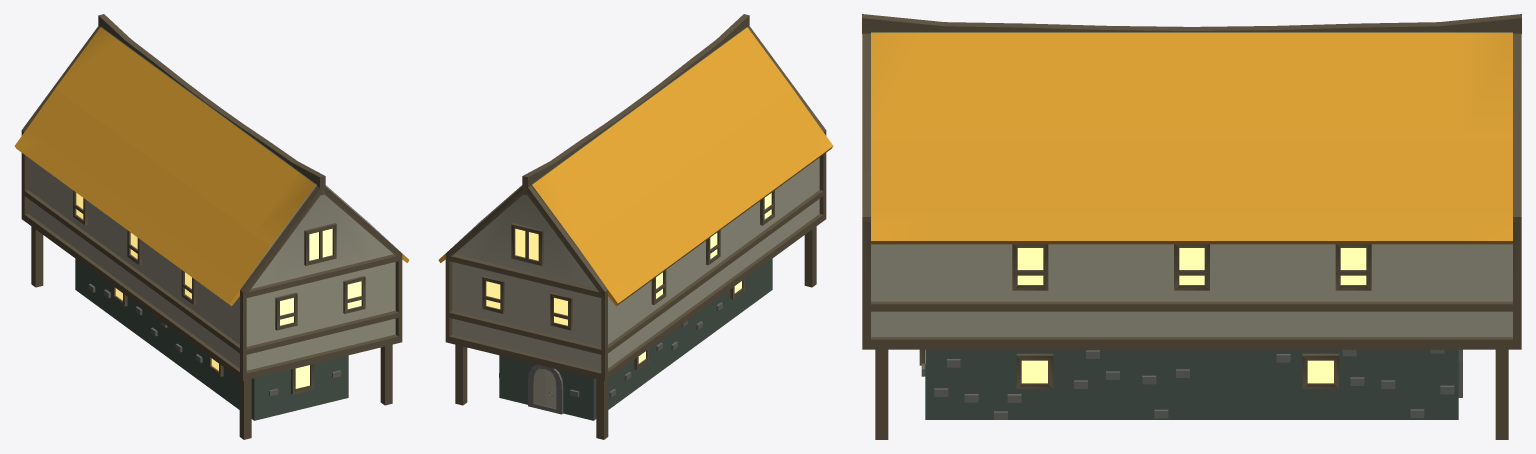
The model's file is barracks.fbx.
The picture shows the model from 3 angles, left to right: view 1: azimuth 30°, elevation 25°; view 2: azimuth 150°, elevation 25°; view 3: azimuth 270°, elevation 25°; orthographic projection. The views are drawn at different scales.
Parts seen in each view (by area): view 1: Barracks; view 2: Barracks; view 3: Barracks.
Boxes of the visible parts, x1=… form: Barracks: x1=14, y1=14, x2=409, y2=439; Barracks: x1=438, y1=14, x2=833, y2=439; Barracks: x1=862, y1=14, x2=1521, y2=439.
Bounding box in the file's own units: 16.56 × 21.87 × 35.36.
